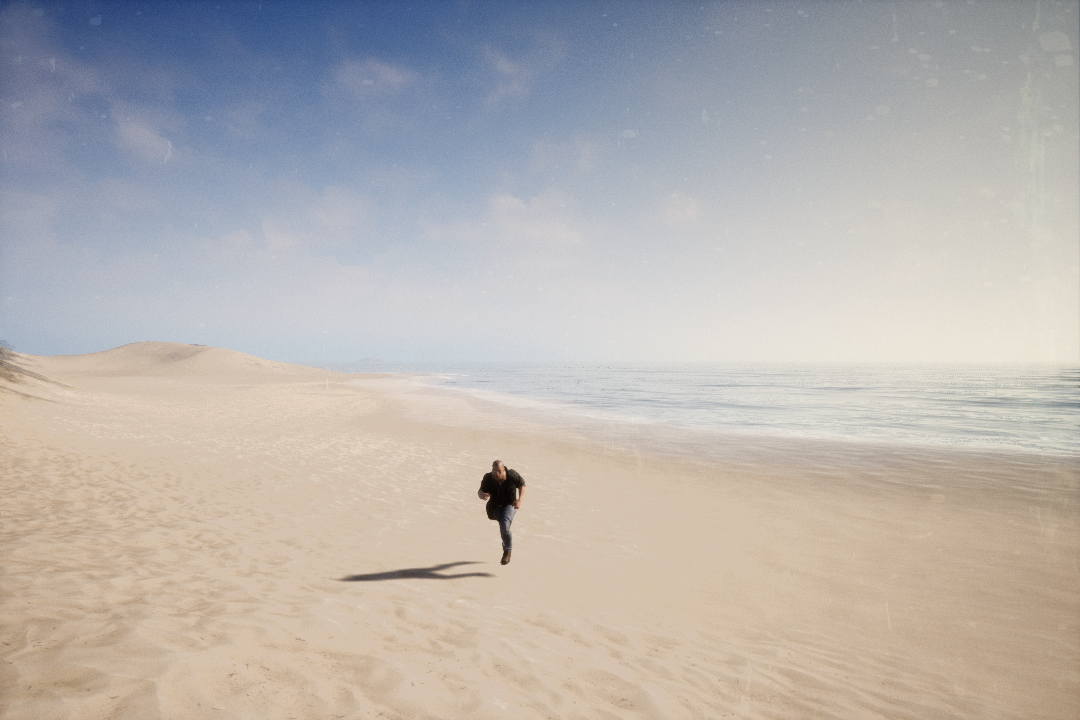person: (473, 460, 534, 567)
